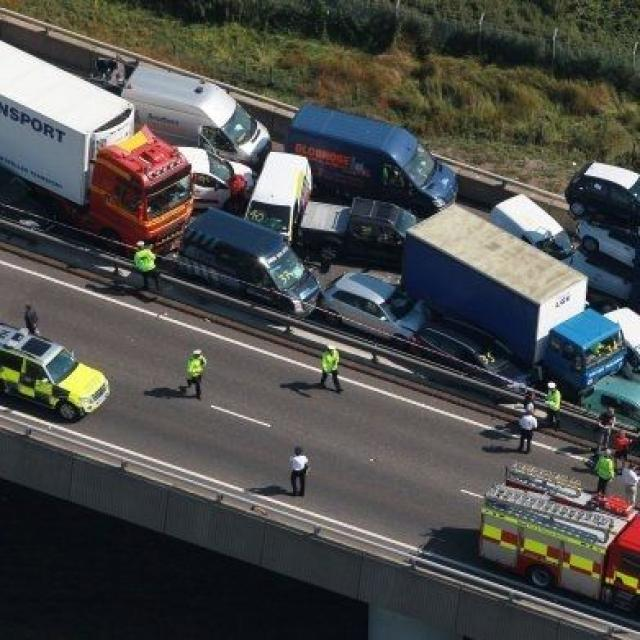traffic_incident: (76, 27, 638, 380)
